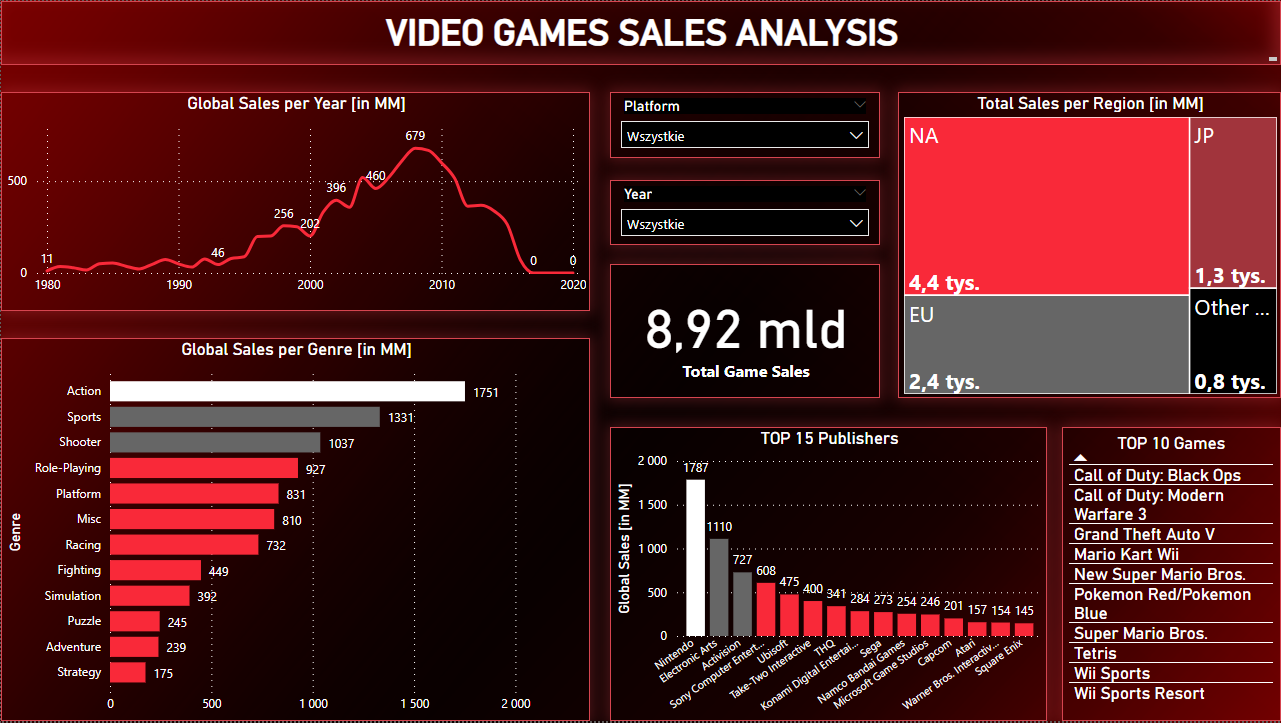

The page's visual inventory and layout, read from the dashboard file:
{"tool":"powerbi","page":{"name":"Strona 1","canvas":[1280,720],"ordinal":0},"visuals":[{"type":"lineChart","title":"Global Sales per Year [in MM]","fields":{"Y":["Sum(vgsales.Global_Sales)"],"Category":["vgsales.Year"]},"box":[0,91.4,588.6,218.6],"z":0},{"type":"textbox","title":"VIDEO GAMES SALES ANALYSIS","box":[0,0,1280,64],"z":1000},{"type":"slicer","fields":{"Values":["vgsales.Platform"]},"box":[608.6,91.4,270,65.7],"z":2000},{"type":"slicer","fields":{"Values":["vgsales.Year"]},"box":[608.6,178.6,270,65.7],"z":3000},{"type":"card","fields":{"Values":["vgsales.TotalinMM"]},"box":[608.6,262.9,270,134.3],"z":4000},{"type":"treemap","title":"Total Sales per Region [in MM]","fields":{"Values":["Sum(vgsales.JP_Sales)","Sum(vgsales.NA_Sales)","Sum(vgsales.Other_Sales)","Sum(vgsales.EU_Sales)"]},"box":[897.1,91.4,382.9,305.7],"z":5000},{"type":"clusteredBarChart","title":"Global Sales per Genre [in MM]","fields":{"Category":["vgsales.Genre"],"Y":["Sum(vgsales.Global_Sales)"]},"box":[0,337.1,588.6,382.9],"z":6000},{"type":"columnChart","title":"TOP 15 Publishers","fields":{"Y":["Sum(vgsales.Global_Sales)"],"Category":["vgsales.Publisher"]},"box":[608.6,425.7,437.1,294.3],"z":7000},{"type":"tableEx","fields":{"Values":["vgsales.Name"]},"box":[1061.4,425.7,218.6,294.3],"z":8000}]}

Visuals, with their boxes in screenshot pixels (x1, y1, x2, y2), scaled from the page's 1280x720 canvas onto the 1281x723 screenshot:
"Global Sales per Year [in MM]" lineChart: (x1=0, y1=92, x2=589, y2=311)
"VIDEO GAMES SALES ANALYSIS" textbox: (x1=0, y1=0, x2=1280, y2=64)
slicer - vgsales.Platform: (x1=609, y1=92, x2=879, y2=158)
slicer - vgsales.Year: (x1=609, y1=179, x2=879, y2=245)
card - vgsales.TotalinMM: (x1=609, y1=264, x2=879, y2=399)
"Total Sales per Region [in MM]" treemap: (x1=898, y1=92, x2=1280, y2=399)
"Global Sales per Genre [in MM]" clusteredBarChart: (x1=0, y1=339, x2=589, y2=722)
"TOP 15 Publishers" columnChart: (x1=609, y1=427, x2=1047, y2=722)
tableEx - vgsales.Name: (x1=1062, y1=427, x2=1280, y2=722)
